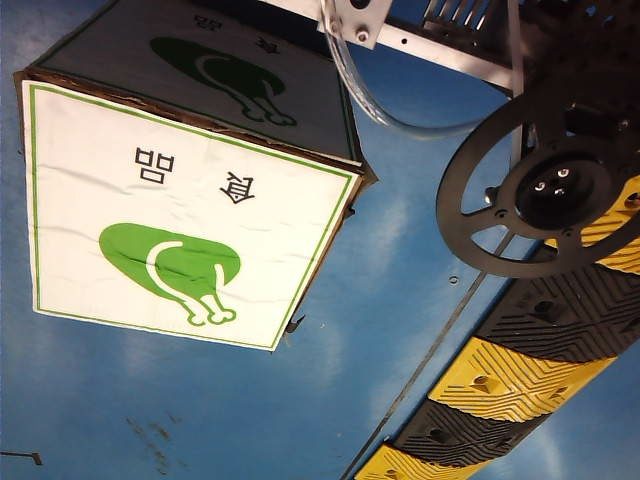Cube_food: (52, 143, 302, 331)
